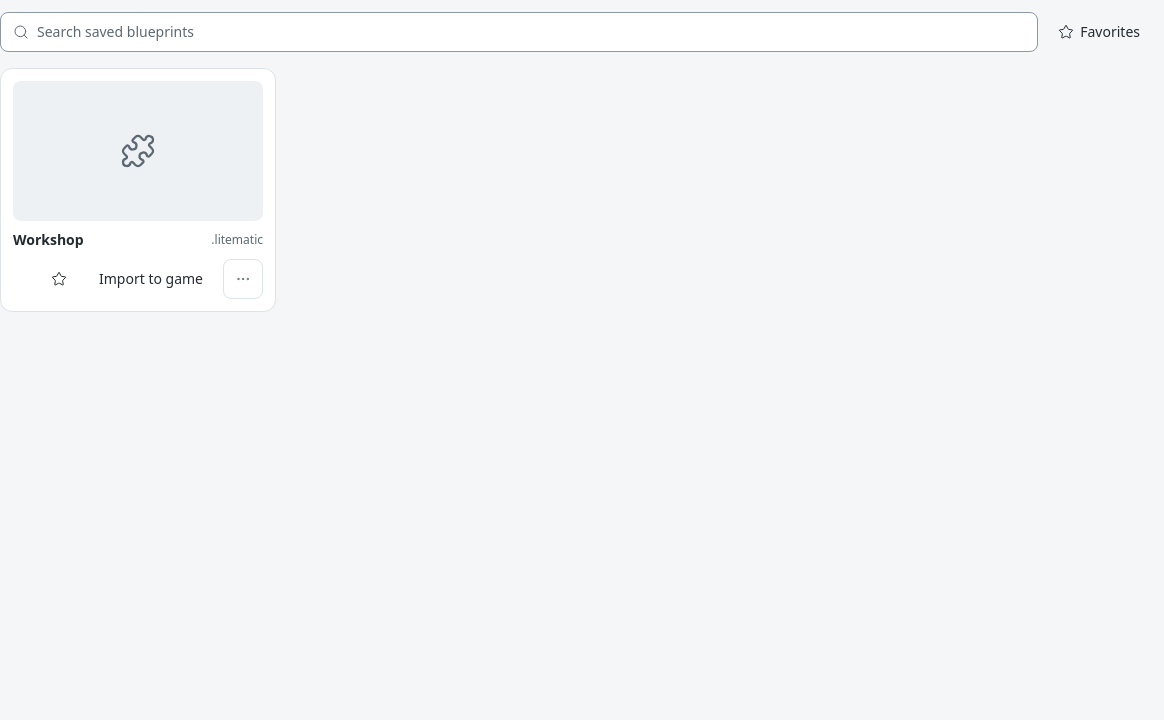
uses a saved litematic format for import instead of the legacy schem default
This screenshot has width=1164, height=720.
Click the button "Import to game" at (151, 279), box [87,259,215,299]
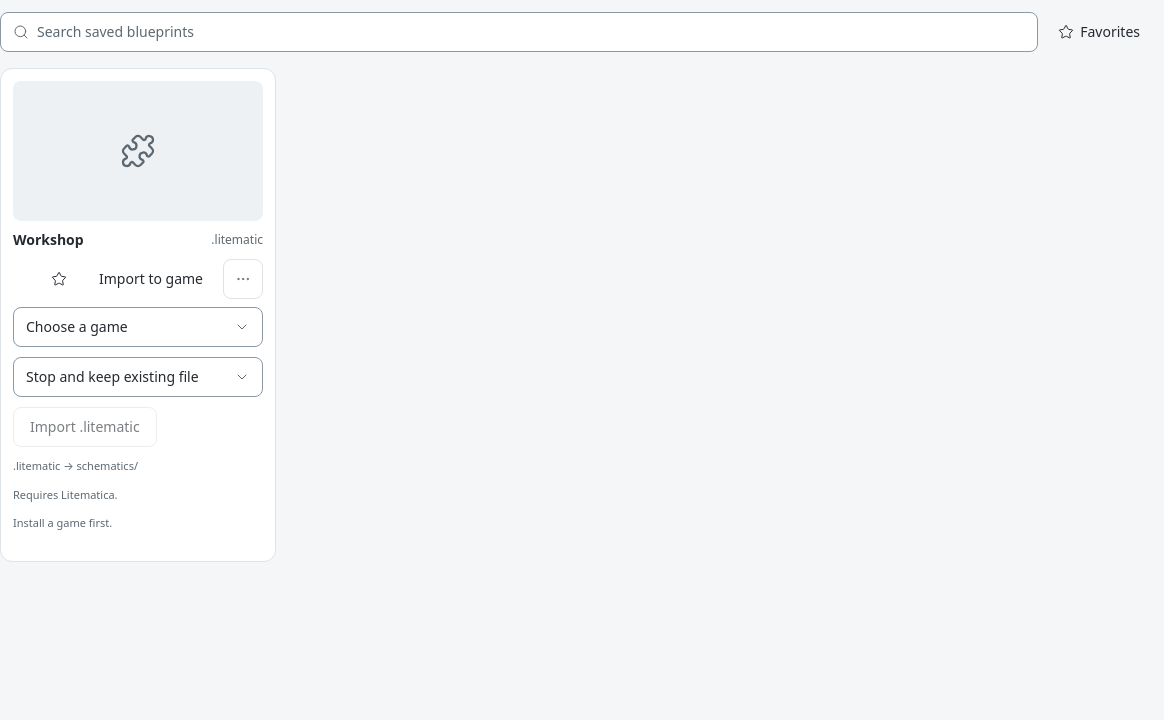
Expected: the button with class "secondary-button" reads "Import .litematic", [13,407,157,447]
Expected: the element with class "blueprint-import" shows "Requires Litematica.", [13,487,118,502]
